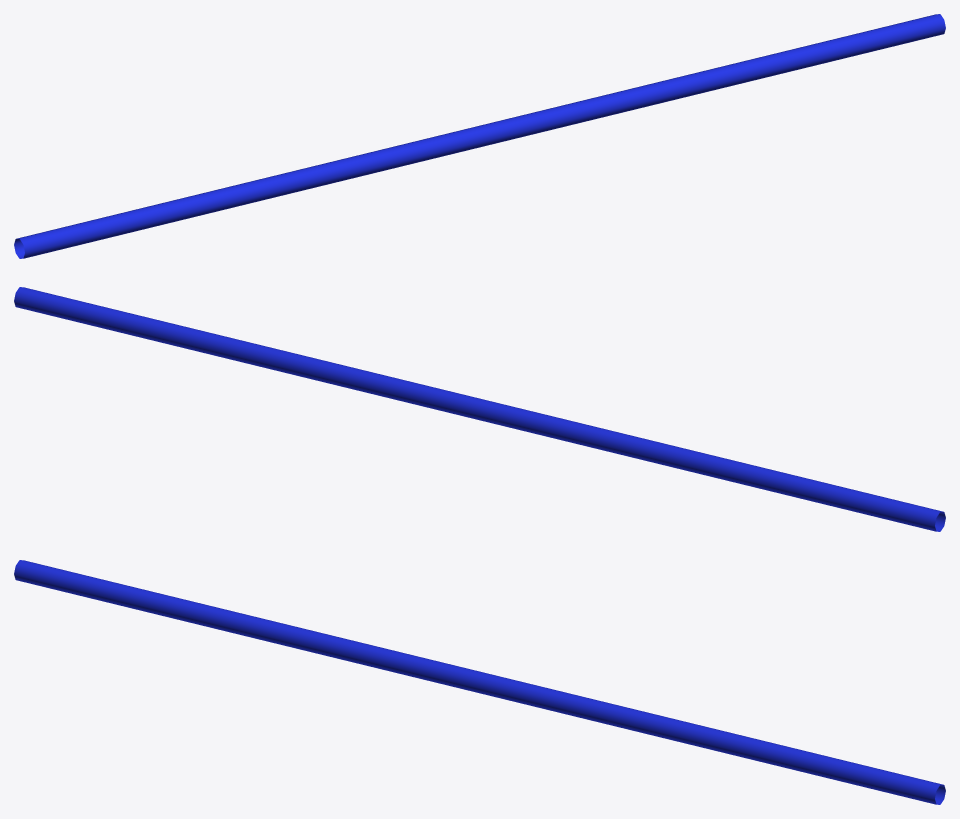
The model's file is SM_Wire_05.fbx.
3 views of the same model, one above another, from view 1: azimuth 30°, elevation 25°; view 2: azimuth 150°, elevation 25°; view 3: azimuth 330°, elevation 25° (orthographic).
Parts seen in each view (by area): view 1: SM_Wire_05; view 2: SM_Wire_05; view 3: SM_Wire_05.
Boxes of the visible parts, x1,y1,x2,y2 form: SM_Wire_05: (14, 14, 945, 258); SM_Wire_05: (14, 287, 945, 531); SM_Wire_05: (14, 560, 945, 804).
Bounding box in the file's own units: 27.91 × 0.58 × 0.58.
